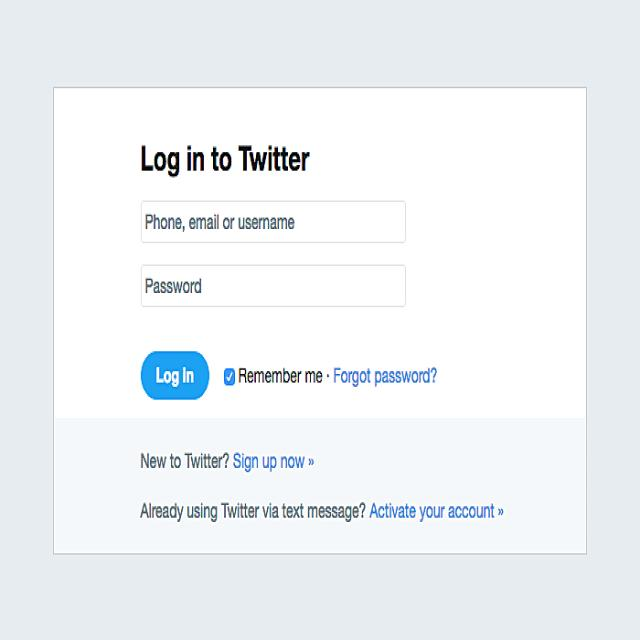Check-box: (221, 356, 439, 396)
Container: (50, 78, 592, 565)
Input-field: (140, 260, 410, 313), (138, 196, 411, 248), (135, 334, 229, 406)
Text: (138, 497, 506, 526), (135, 136, 318, 177), (136, 446, 324, 476)
